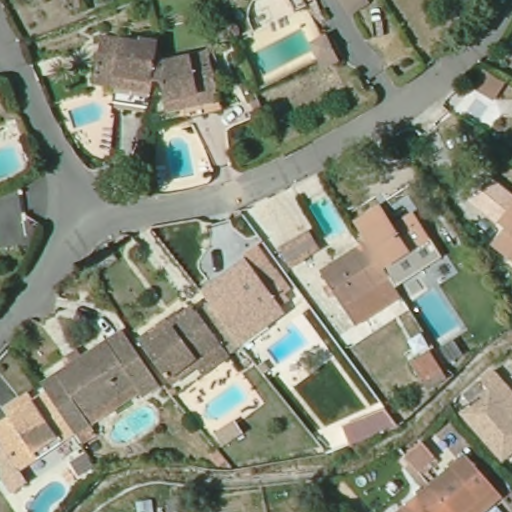pool: (243, 30, 313, 81), (406, 283, 464, 340), (105, 400, 161, 443), (155, 132, 201, 180), (307, 195, 350, 245), (1, 121, 31, 188), (198, 382, 247, 421), (263, 324, 312, 361), (60, 100, 108, 137), (23, 480, 71, 509)
